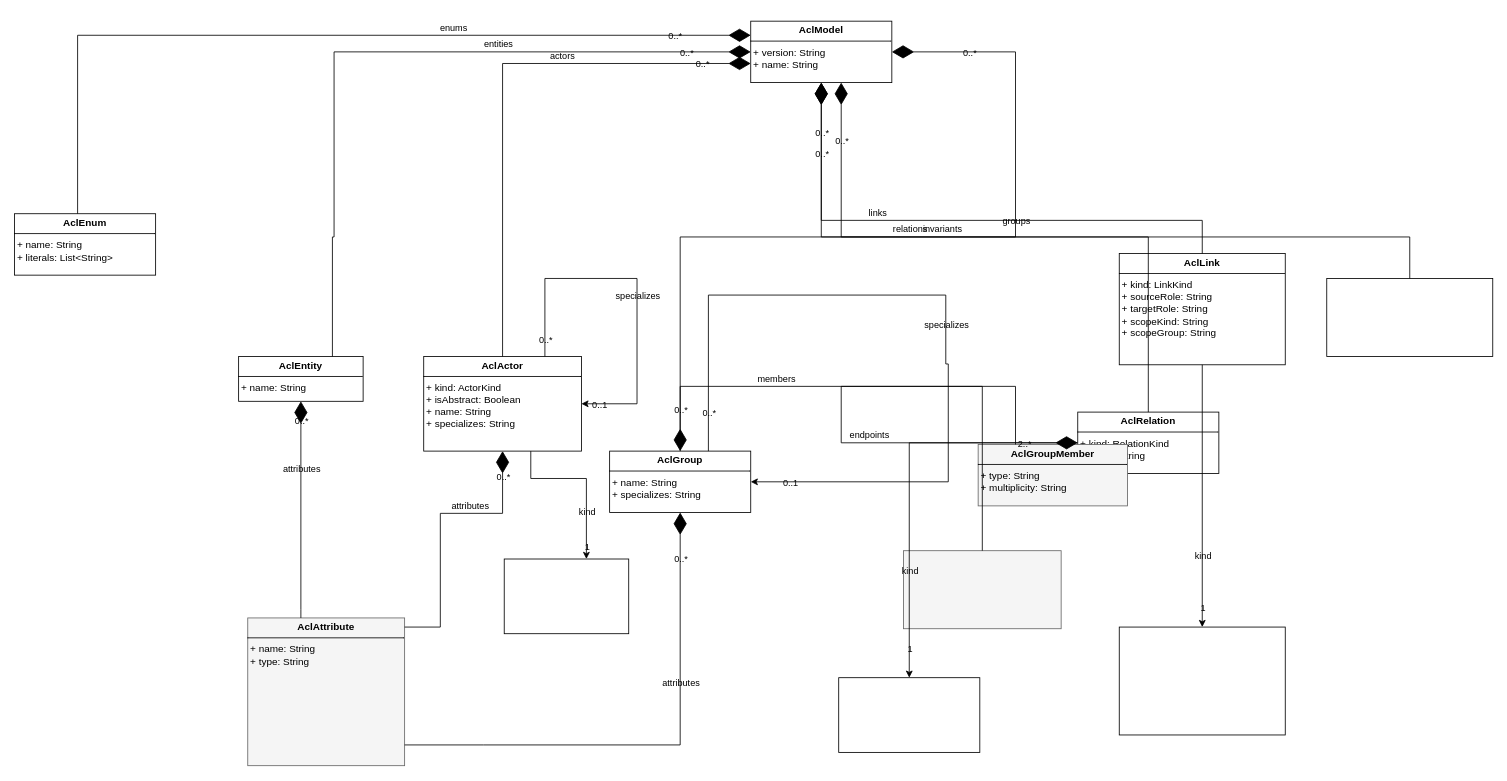
This 1507x781 diagram has some shape labels left out. Here are the shapes that lost their labels. From the top down, the centre of each, then its label:
point (1409, 317): AclInvariant + name: String + contextType: String + oclBody: String
point (566, 596): «enumeration» ActorKind agent role
point (982, 589): AclEndpoint + type: String + multiplicity: String + roleName: String
point (1201, 680): «enumeration» LinkKind authority communication acquaintance compatibility
point (909, 714): «enumeration» RelationKind relationship partOf
